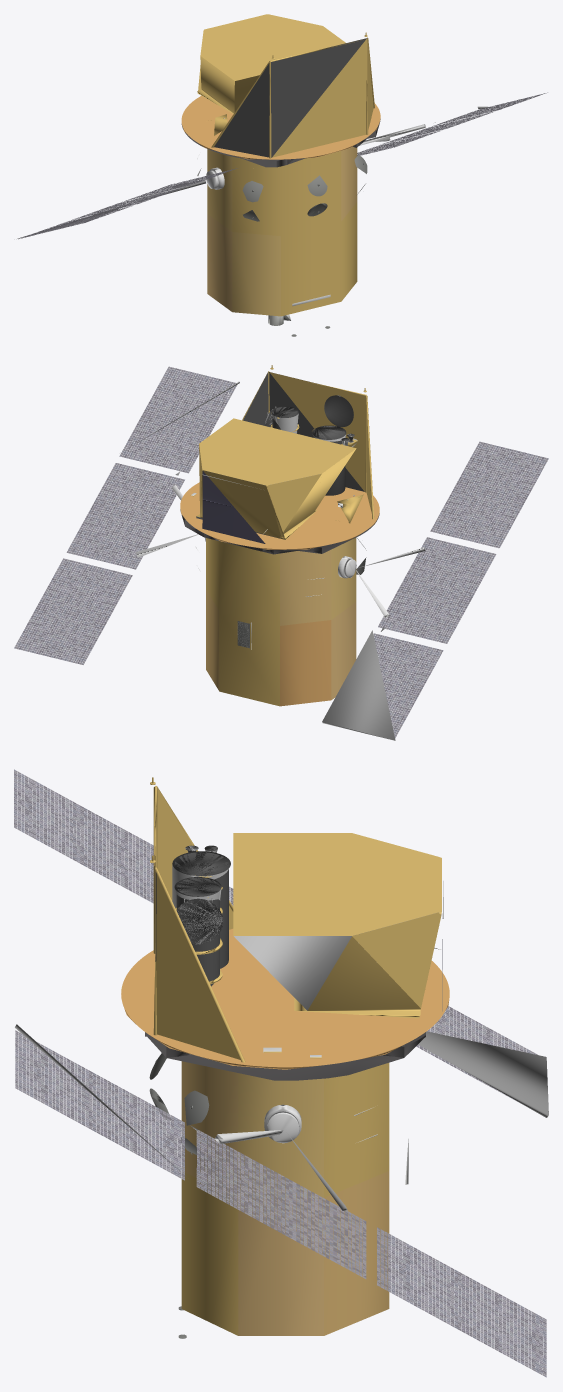
Rendered from swift-low.glb.
The picture shows the model from 3 angles, top to bottom: view 1: azimuth 30°, elevation 25°; view 2: azimuth 150°, elevation 25°; view 3: azimuth 270°, elevation 25°; orthographic projection. The views are drawn at different scales.
Parts seen in each view (by area): view 1: Fake; view 2: Fake; view 3: Fake.
Part boxes in pixels (bbox=[...]): Fake: bbox=[17, 14, 547, 336]; Fake: bbox=[14, 365, 548, 740]; Fake: bbox=[14, 769, 548, 1377].
Size of the model in its own units: 39.92 by 29.33 by 28.1.
1 material, 1 textured.
